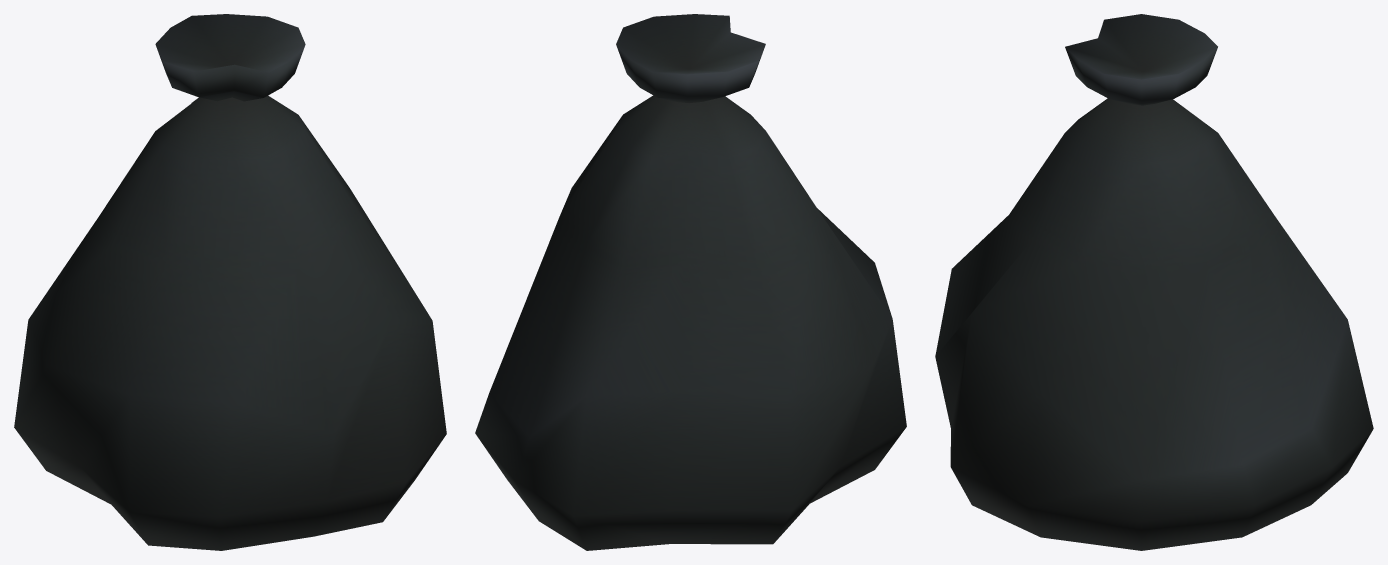
File: trashbag_01.fbx
3 views of the same model, side by side, from view 1: azimuth 30°, elevation 25°; view 2: azimuth 150°, elevation 25°; view 3: azimuth 270°, elevation 25° (orthographic).
Visible parts, largest first — view 1: Trashbag_01; view 2: Trashbag_01; view 3: Trashbag_01.
Part boxes in pixels (x1,y1,x2,y2): Trashbag_01: (14, 14, 446, 550); Trashbag_01: (475, 14, 906, 550); Trashbag_01: (935, 14, 1373, 550).
Bounding box in the file's own units: 74.58 × 81.88 × 76.32.
